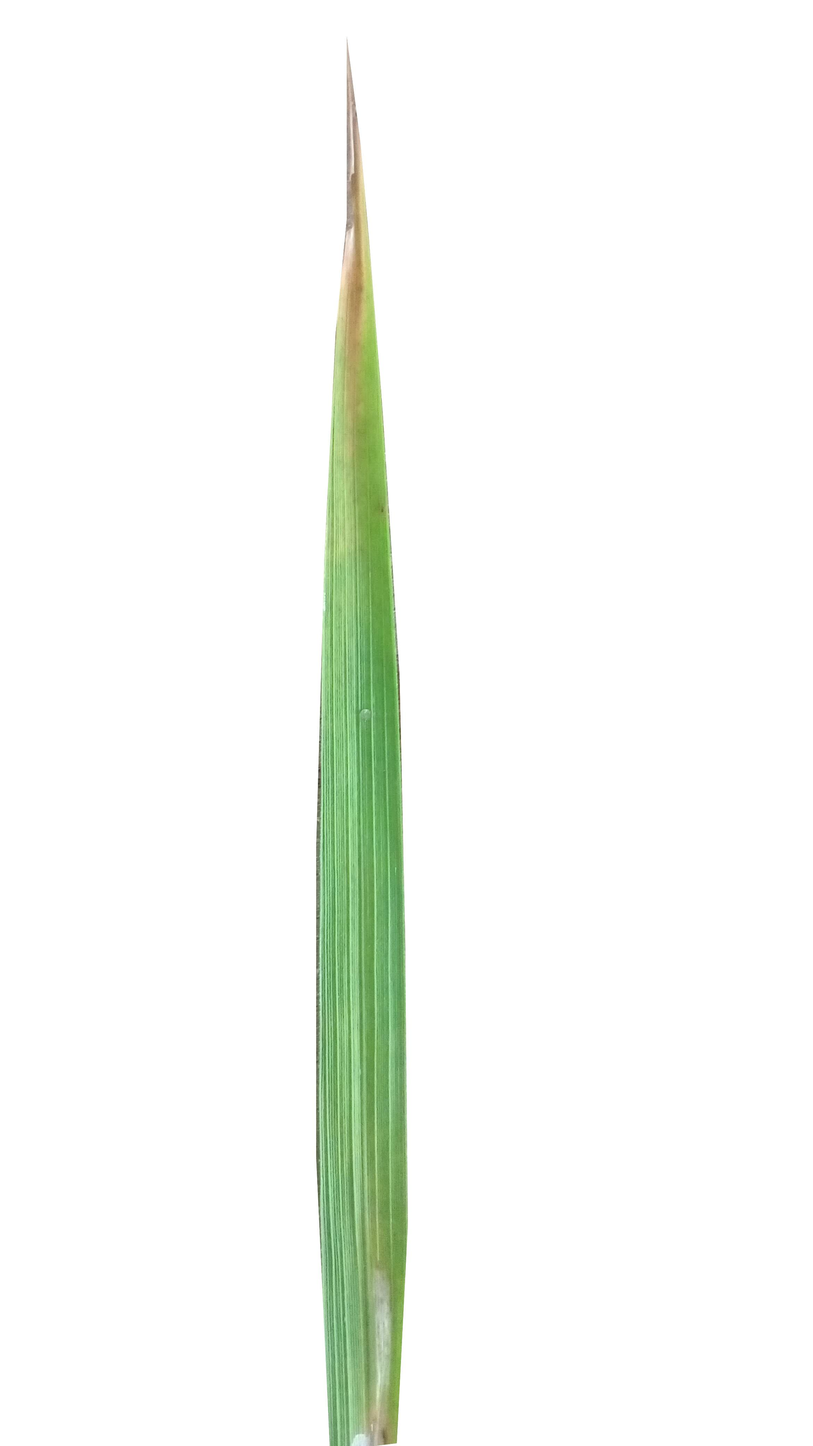Tungro: (329, 171, 394, 542)
